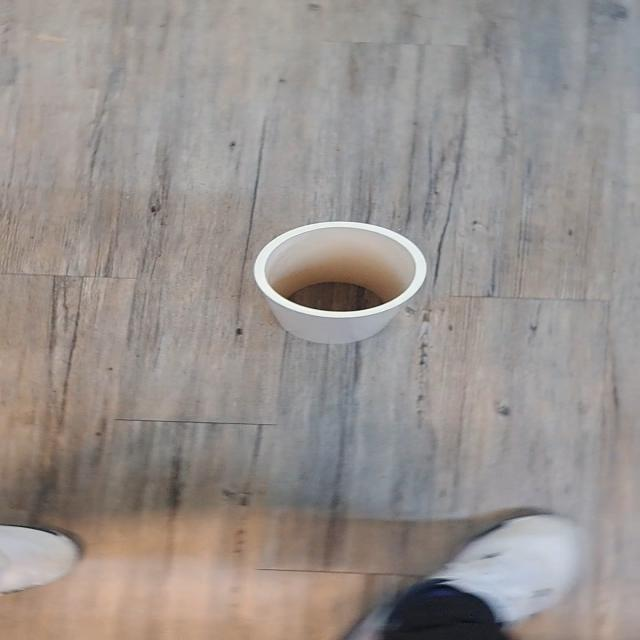CORAL: (232, 202, 444, 361)
